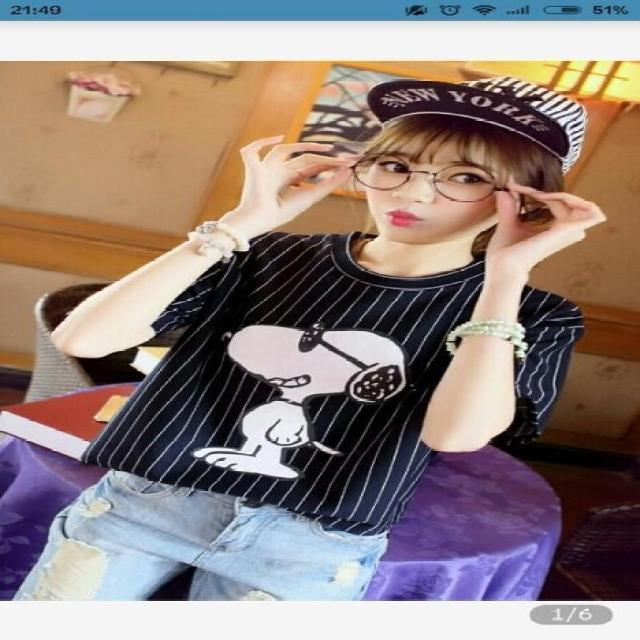short-sleeve-top: (167, 198, 579, 524)
